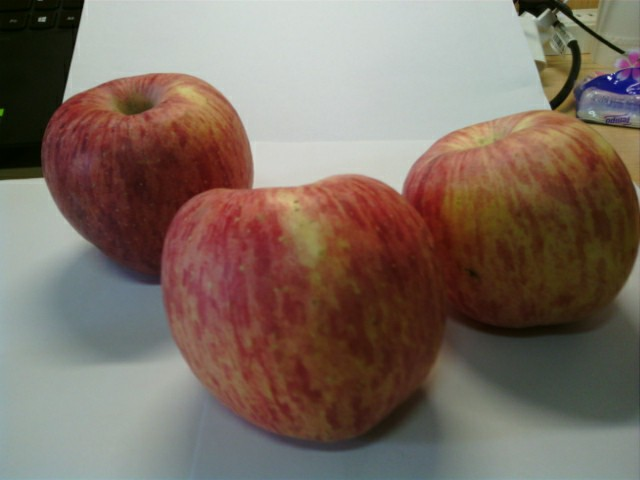normal_apple: (157, 174, 445, 447), (403, 106, 640, 336), (36, 73, 256, 276)
